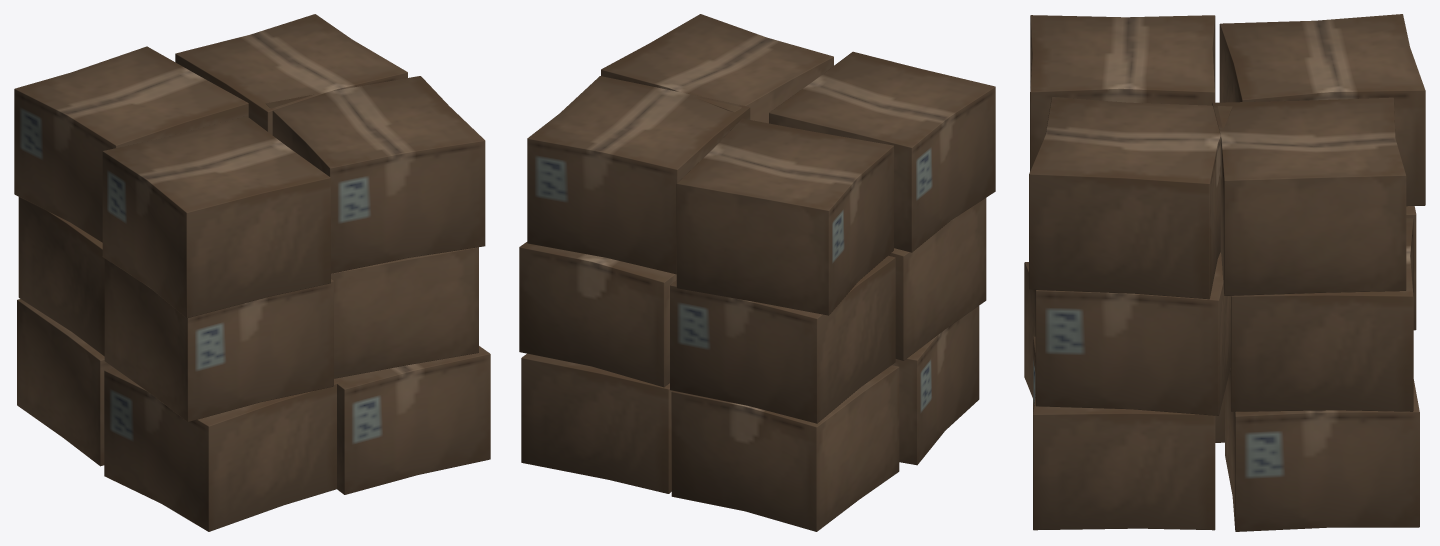
Rendered from BoxL.fbx.
The picture shows the model from 3 angles, left to right: view 1: azimuth 30°, elevation 25°; view 2: azimuth 150°, elevation 25°; view 3: azimuth 270°, elevation 25°; orthographic projection. The views are drawn at different scales.
Visible parts, largest first — view 1: Box_L; view 2: Box_L; view 3: Box_L.
Part boxes in pixels (x1,y1,x2,y2): Box_L: (14, 14, 490, 531); Box_L: (519, 14, 995, 531); Box_L: (1024, 14, 1425, 531).
Bounding box in the file's own units: 213 × 208 × 212.
